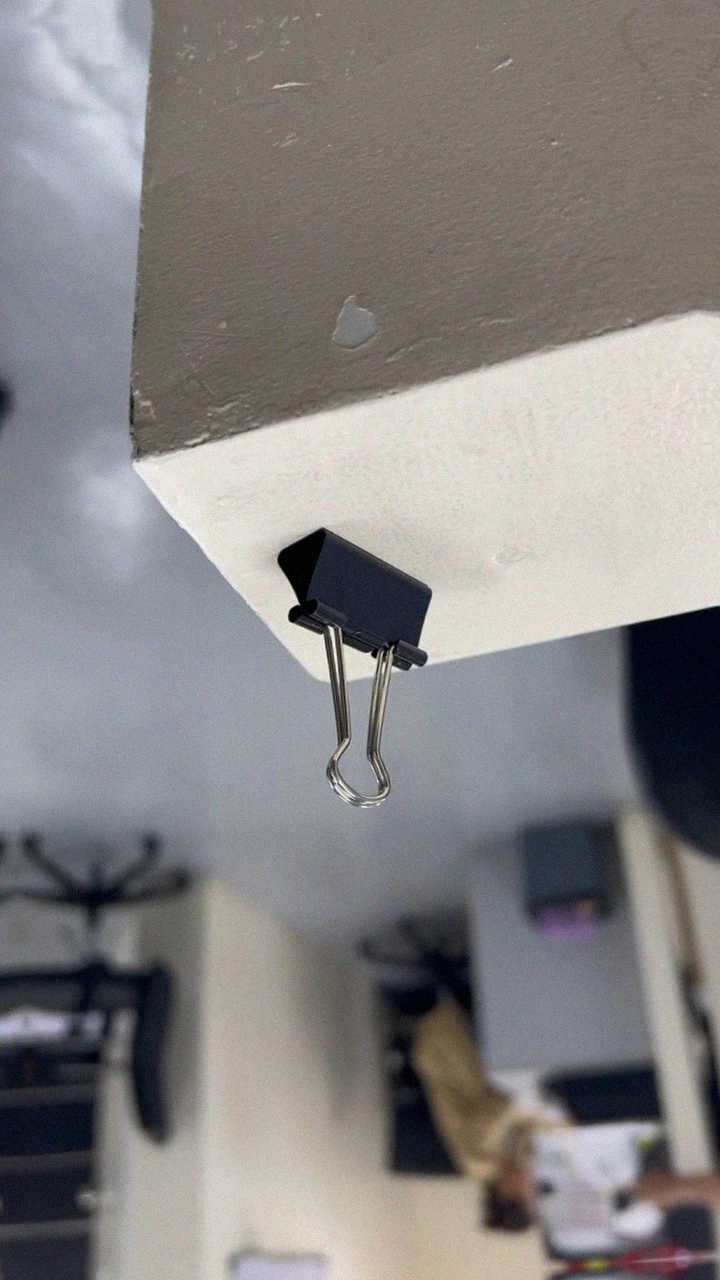kep_giay: (266, 515, 458, 815)
